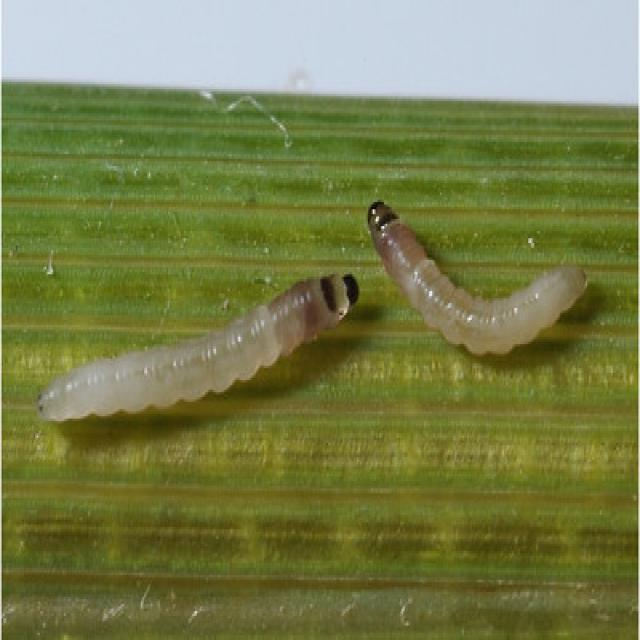ulat pada daun padi: (34, 262, 360, 426), (363, 173, 592, 385)
